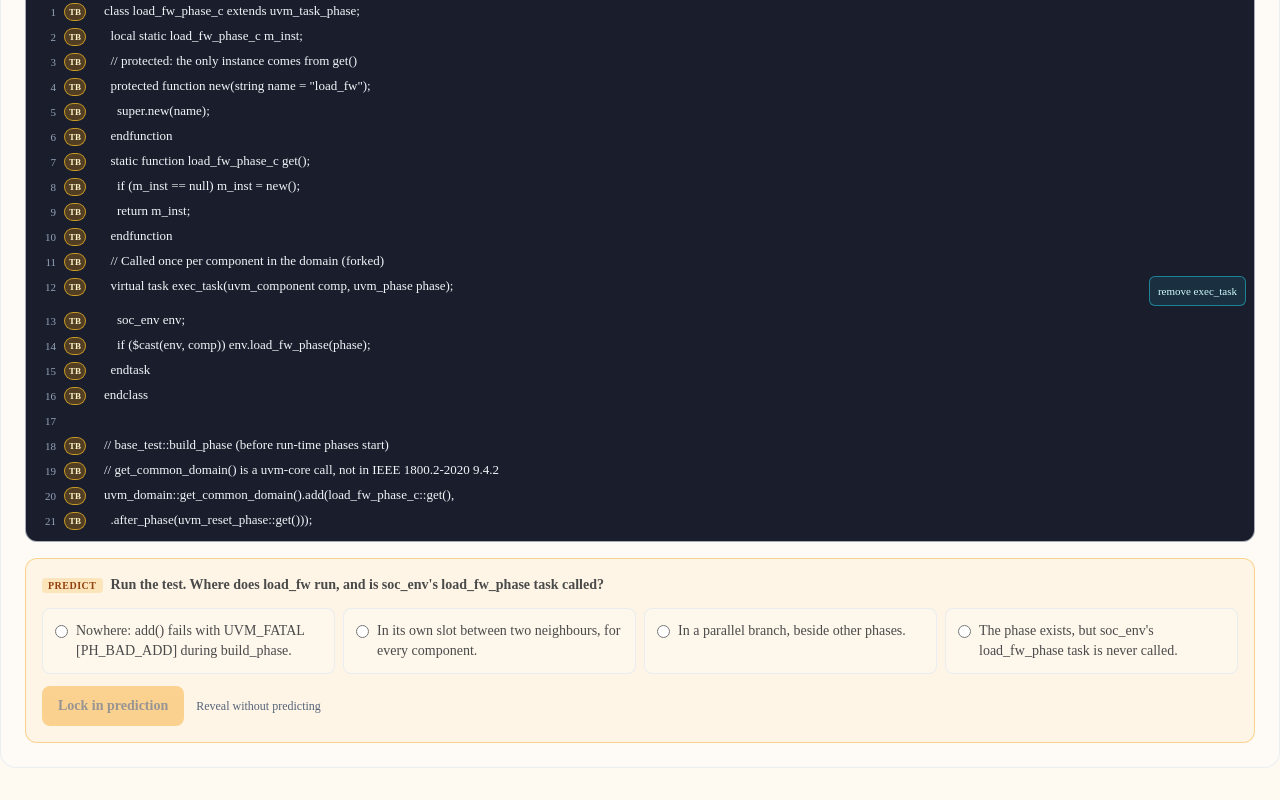
Test case: MethodologyPhaseVisualizer › adding to the common domain after reset is a PH_BAD_ADD fatal, revealed only after predicting
(page scrolled)
Expected: the text "cannot find after_phase" is not shown
Click the radio button labelled "In its own slot between two neighbours, for every component.". click: (362, 632)
box: [356,625,369,638]
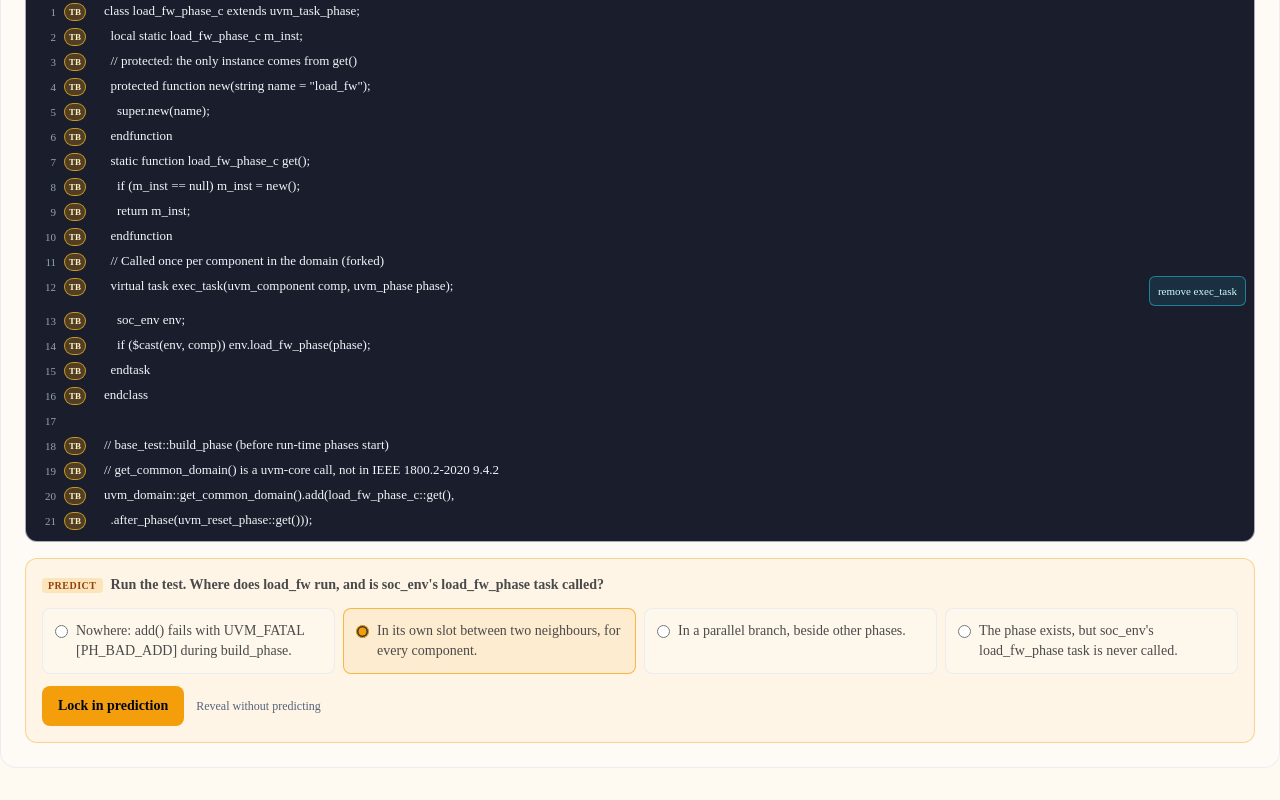
Click the button "Lock in prediction". click: (113, 706)
box: [42,686,184,726]
(page scrolled)
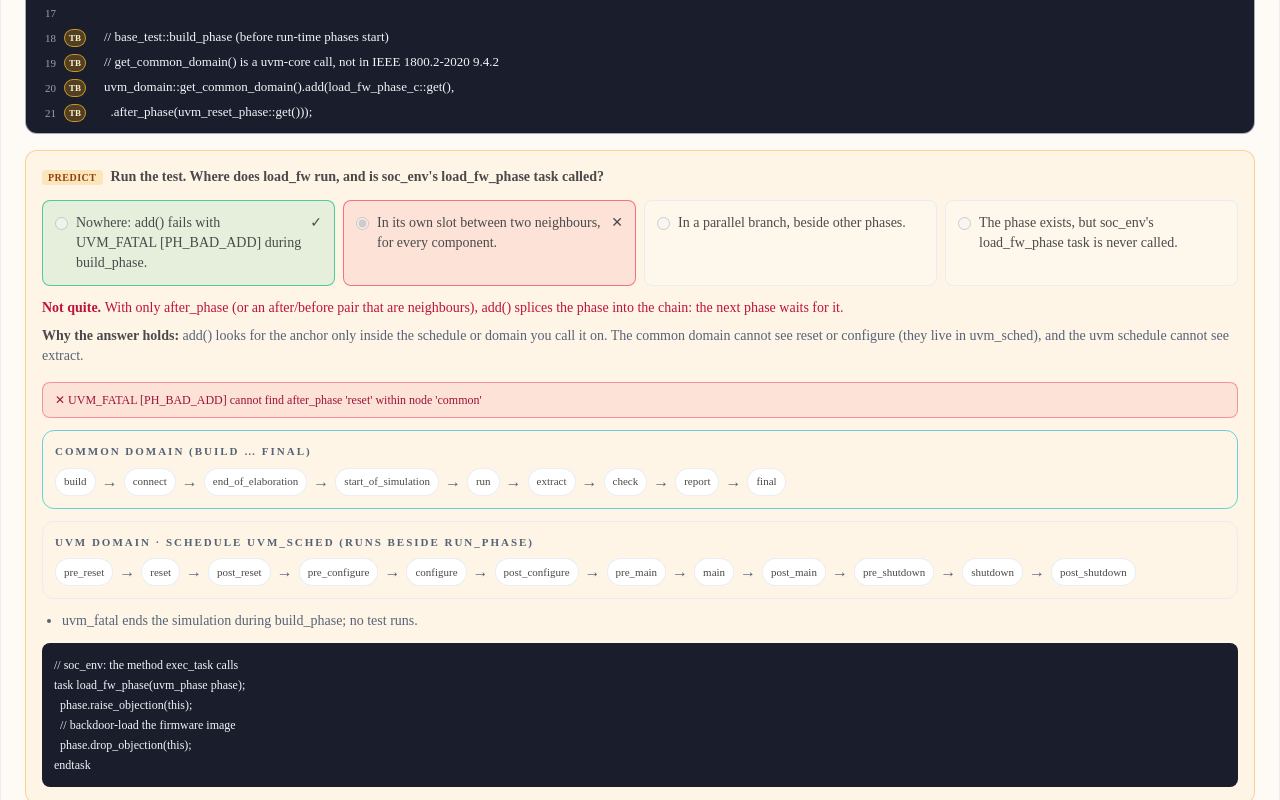
Expected: the text "Not quite." is shown, [42,300,105,315]
Expected: the text "UVM_FATAL [PH_BAD_ADD] cannot find after_phase 'reset' within node 'common'" is shown, [42,382,1238,418]
